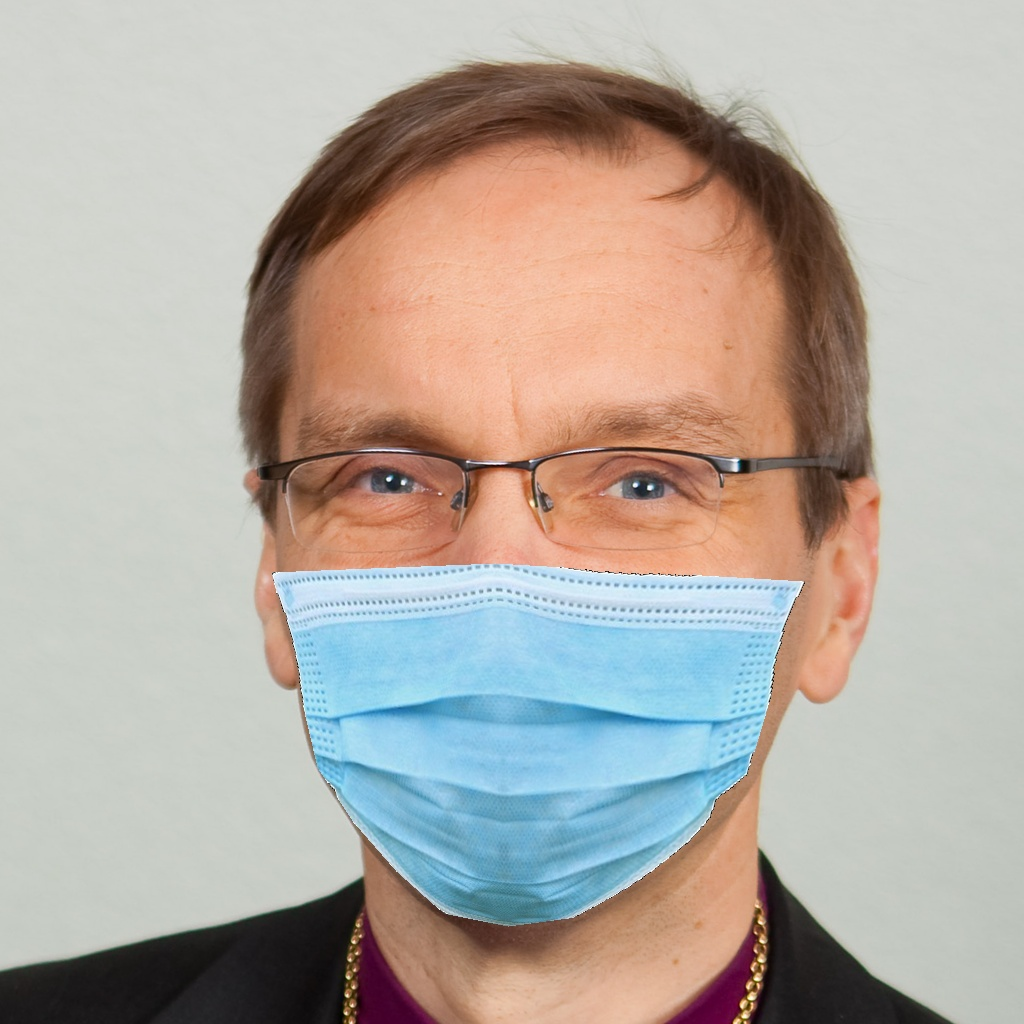Mask: (271, 376, 807, 928)
